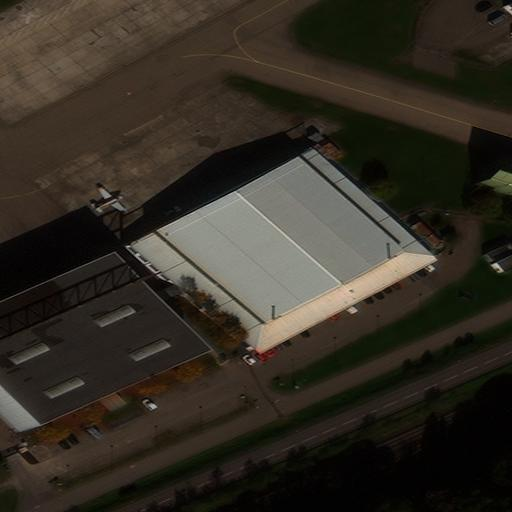Small Civil Transport: (94, 184, 128, 211)
